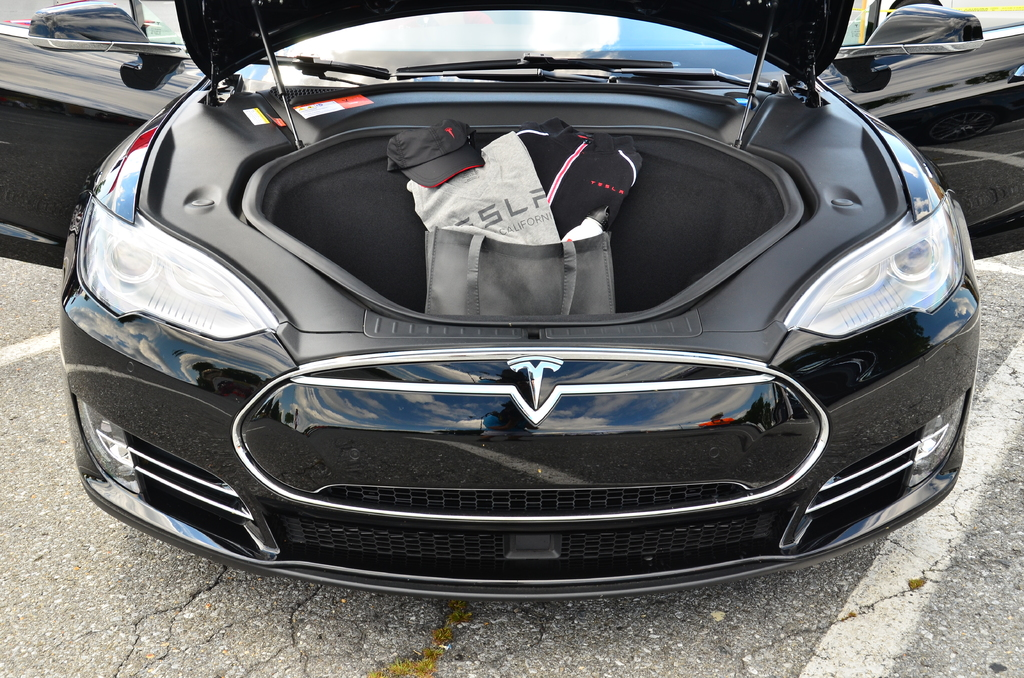Car: (0, 0, 1023, 601)
